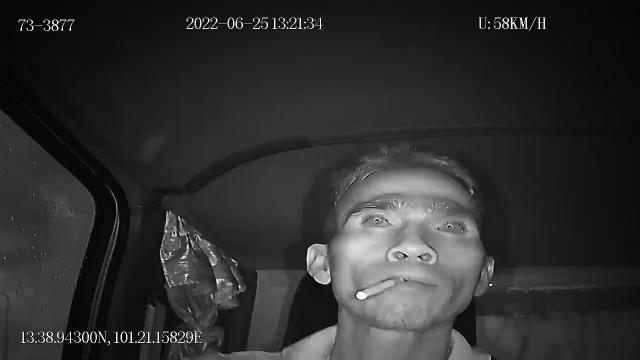SafeDriving: (428, 214, 472, 238), (354, 208, 398, 232)
Smoking: (355, 275, 405, 299)
